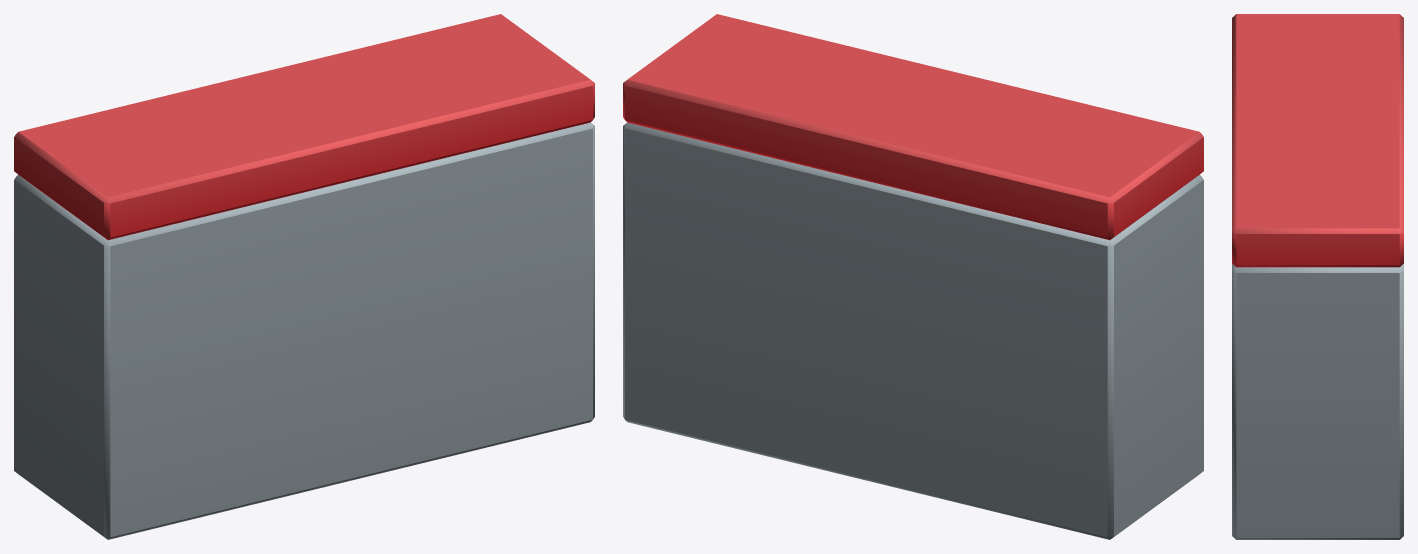
The model's file is platform_6x2x4_red.glb.
3 renders of one model, left to right at view 1: azimuth 30°, elevation 25°; view 2: azimuth 150°, elevation 25°; view 3: azimuth 270°, elevation 25°, orthographic. The views are drawn at different scales.
Parts seen in each view (by area): view 1: platform_6x2x4_red; view 2: platform_6x2x4_red; view 3: platform_6x2x4_red.
Part boxes in pixels (x1=…): platform_6x2x4_red: x1=14, y1=14, x2=594, y2=539; platform_6x2x4_red: x1=623, y1=14, x2=1203, y2=539; platform_6x2x4_red: x1=1232, y1=14, x2=1403, y2=539.
Bounding box in the file's own units: 6 × 4 × 2.
1 material, 1 textured.
